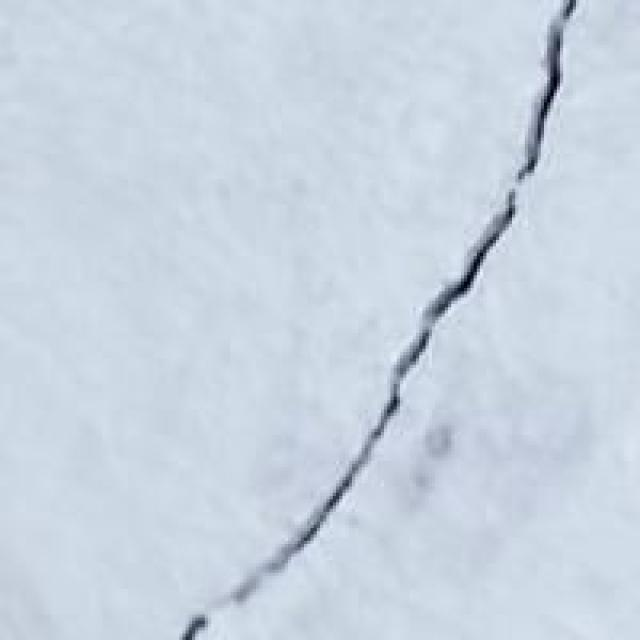Crack: (165, 3, 578, 634)
